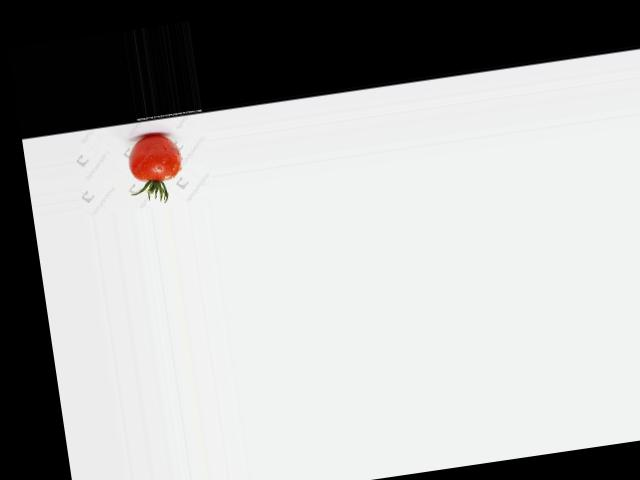tomato: (124, 131, 183, 184)
